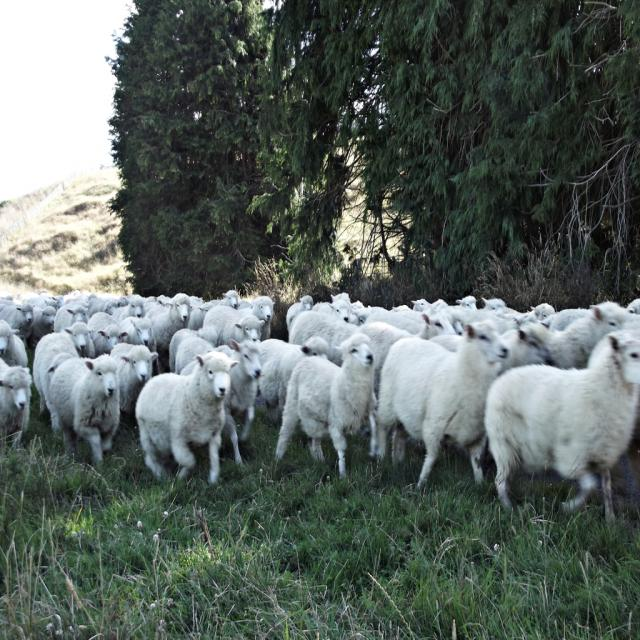Sheep: (0, 290, 640, 522)
